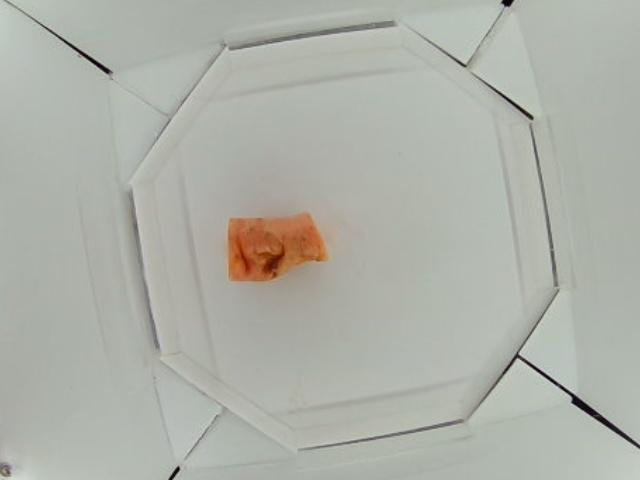Carrot: (227, 210, 329, 281)
